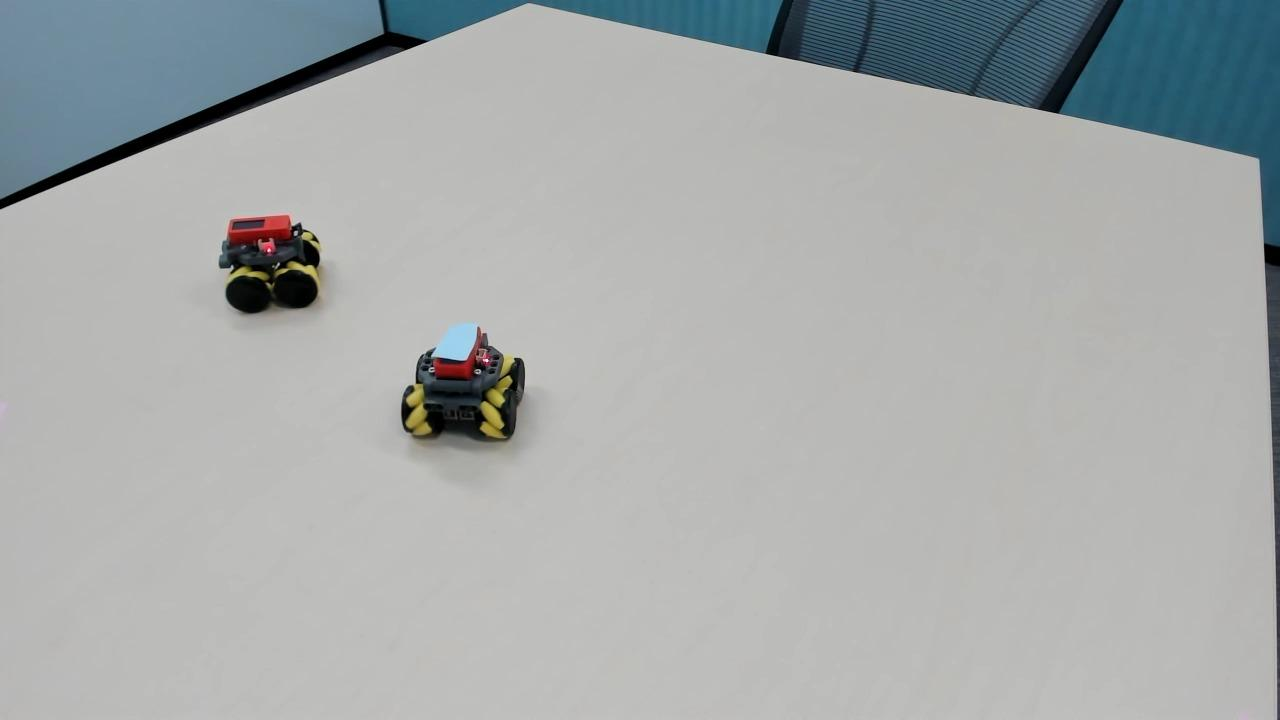B-Robot: (394, 318, 535, 460)
R-Robot: (201, 204, 334, 314)
